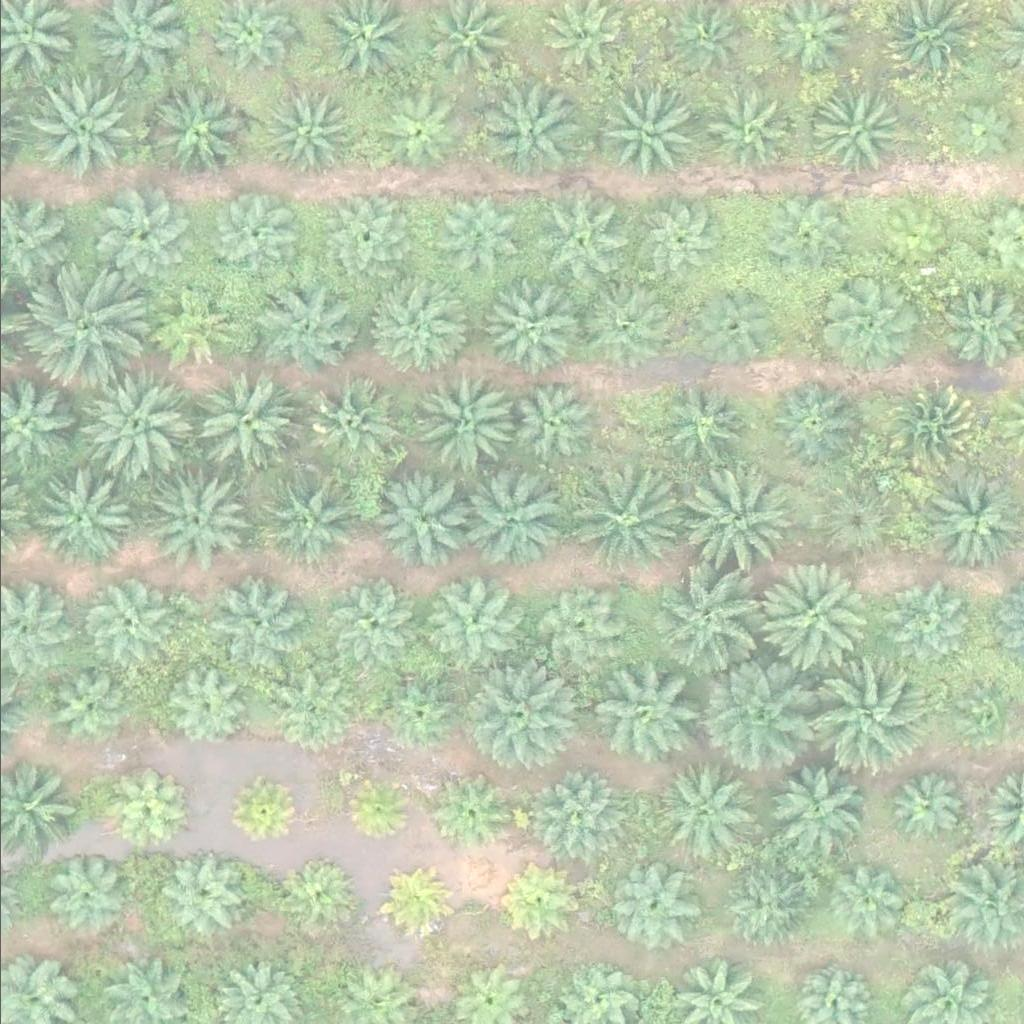Kelapa_Sawit: (674, 461, 788, 574), (16, 459, 129, 572), (698, 656, 811, 769), (588, 657, 701, 770), (465, 658, 578, 771), (652, 567, 765, 680), (756, 563, 869, 676), (561, 457, 674, 570), (24, 269, 137, 382), (807, 663, 921, 775), (72, 371, 185, 483), (25, 64, 138, 176), (149, 470, 250, 570), (656, 759, 757, 859), (457, 466, 558, 566), (374, 471, 475, 571), (201, 371, 302, 471), (257, 470, 358, 570), (205, 577, 306, 677), (409, 373, 510, 473), (372, 277, 473, 377), (481, 82, 582, 182), (143, 82, 243, 182), (762, 758, 862, 858), (816, 273, 916, 373), (881, 382, 981, 482), (255, 278, 355, 378), (527, 194, 627, 294), (808, 83, 908, 183), (599, 83, 699, 183), (210, 186, 299, 274), (155, 846, 243, 934), (83, 572, 171, 660), (375, 668, 463, 756), (257, 668, 345, 756), (824, 859, 912, 947), (807, 471, 895, 559), (691, 283, 779, 371), (661, 376, 749, 464), (419, 578, 507, 666), (327, 579, 415, 667), (876, 580, 964, 668), (768, 381, 856, 469), (511, 381, 599, 469), (629, 197, 717, 285), (426, 189, 514, 277), (322, 193, 410, 281), (259, 95, 347, 183), (39, 848, 127, 935), (159, 664, 247, 751), (35, 661, 123, 748), (106, 193, 194, 280), (719, 862, 807, 949), (539, 772, 627, 859), (608, 859, 696, 946), (530, 584, 618, 671), (305, 376, 393, 463), (582, 282, 670, 369), (758, 190, 846, 277), (481, 285, 569, 372), (710, 92, 798, 179), (372, 89, 460, 176), (857, 186, 945, 273), (145, 284, 233, 371), (886, 769, 962, 844), (281, 853, 357, 928), (101, 770, 177, 845), (228, 775, 304, 850), (377, 868, 453, 943), (946, 95, 1021, 170), (436, 778, 511, 853), (339, 770, 414, 845), (500, 868, 575, 943), (955, 680, 1018, 742)
